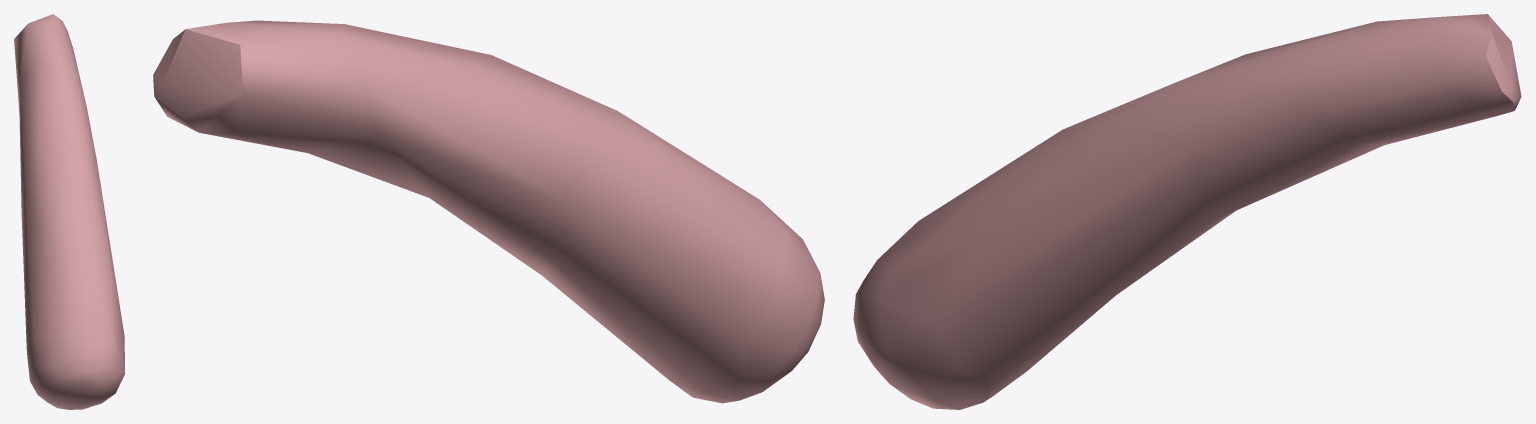
Rendered from fma68213_fj6572.glb.
The picture shows the model from 3 angles, left to right: view 1: azimuth 30°, elevation 25°; view 2: azimuth 150°, elevation 25°; view 3: azimuth 270°, elevation 25°; orthographic projection. The views are drawn at different scales.
Visible parts, largest first — view 1: FMA68213_FJ6572; view 2: FMA68213_FJ6572; view 3: FMA68213_FJ6572.
Boxes of the visible parts, x1,y1,x2,y2 form: FMA68213_FJ6572: (14,14,124,409); FMA68213_FJ6572: (153,20,824,403); FMA68213_FJ6572: (853,14,1521,409).
Size of the model in its own units: 0.0042 by 0.00573 by 0.00723.
